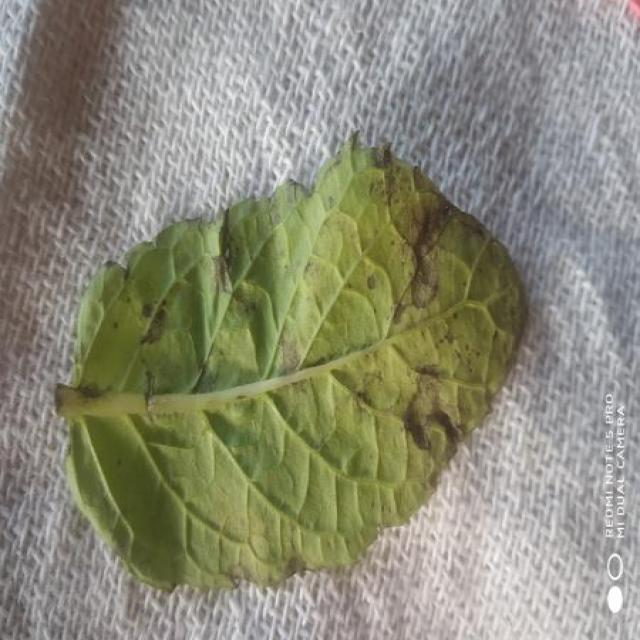mint: (57, 136, 523, 589)
